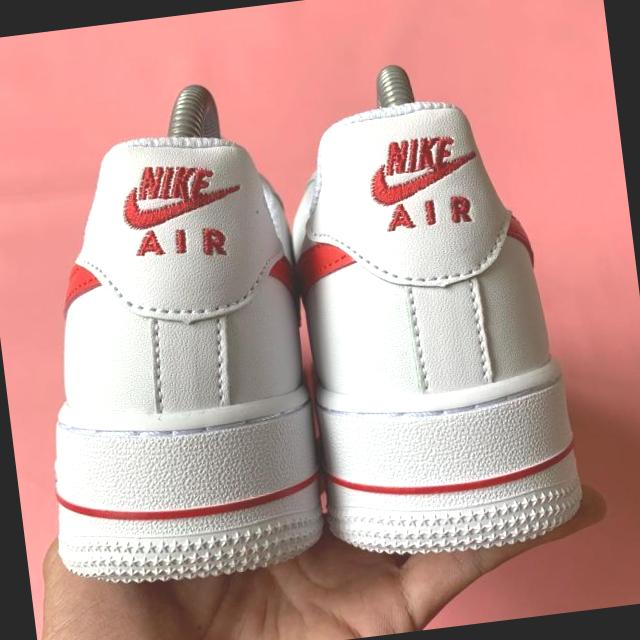nike_fake_airforce: (276, 81, 582, 567), (12, 119, 328, 583)
